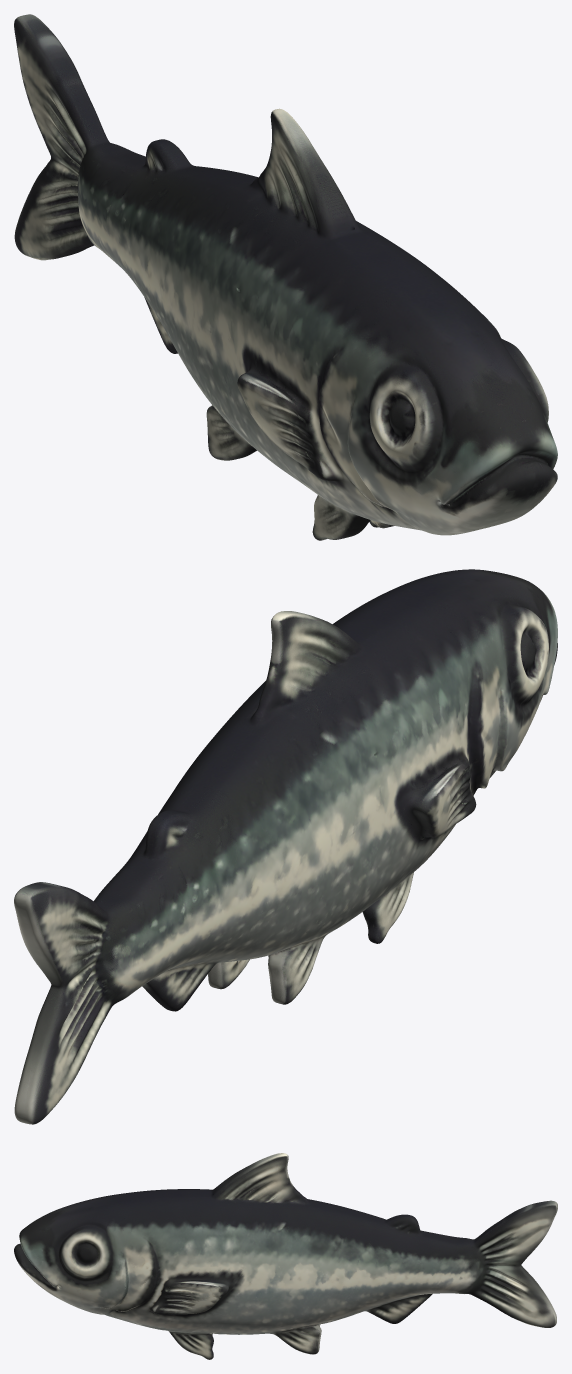
The model's file is Anchois.fbx.
3 renders of one model, top to bottom at view 1: azimuth 30°, elevation 25°; view 2: azimuth 150°, elevation 25°; view 3: azimuth 270°, elevation 25°, orthographic. The views are drawn at different scales.
Visible parts, largest first — view 1: Mesh_0; view 2: Mesh_0; view 3: Mesh_0.
Boxes of the visible parts, box(x1,y1,x2,y2) form: Mesh_0: box(14, 14, 557, 540); Mesh_0: box(14, 569, 557, 1124); Mesh_0: box(14, 1153, 557, 1359).
Size of the model in its own units: 41.59 by 76.4 by 190.
1 material, 1 textured.
